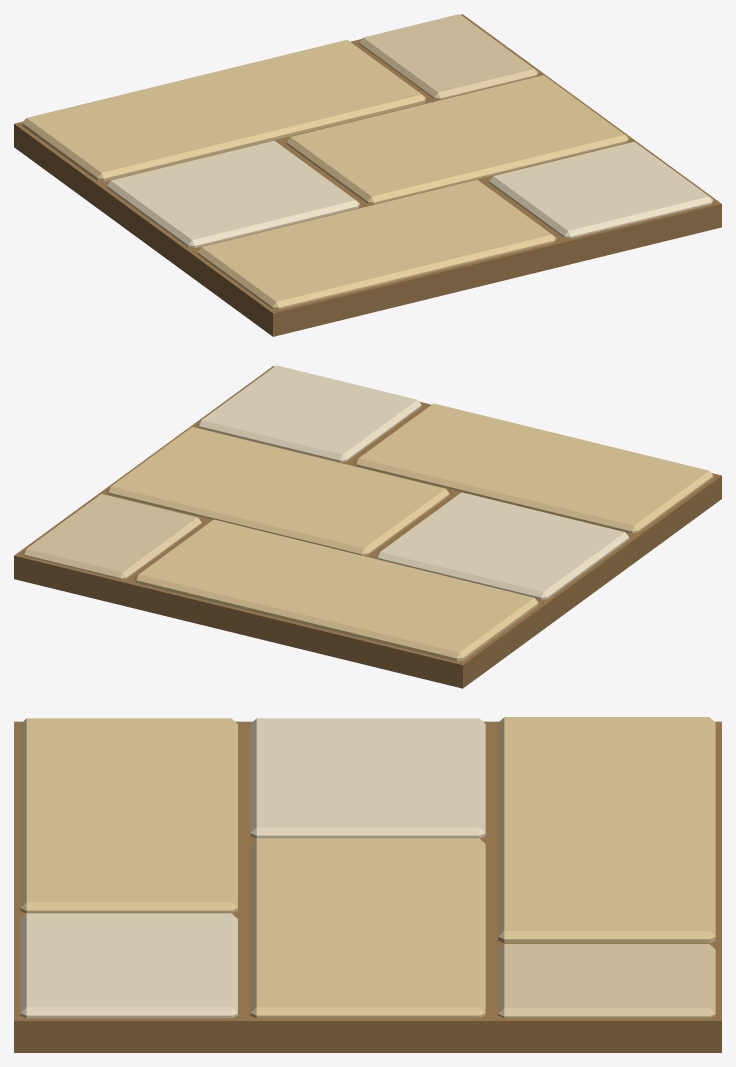
The model's file is desert_tile_b.glb.
The picture shows the model from 3 angles, top to bottom: view 1: azimuth 30°, elevation 25°; view 2: azimuth 150°, elevation 25°; view 3: azimuth 270°, elevation 25°; orthographic projection. The views are drawn at different scales.
Visible parts, largest first — view 1: desert_tile_b; view 2: desert_tile_b; view 3: desert_tile_b.
Boxes of the visible parts, x1=… form: desert_tile_b: x1=14, y1=14, x2=721, y2=336; desert_tile_b: x1=14, y1=365, x2=721, y2=688; desert_tile_b: x1=14, y1=717, x2=721, y2=1052.
Size of the model in its own units: 2 by 0.1308 by 2.
